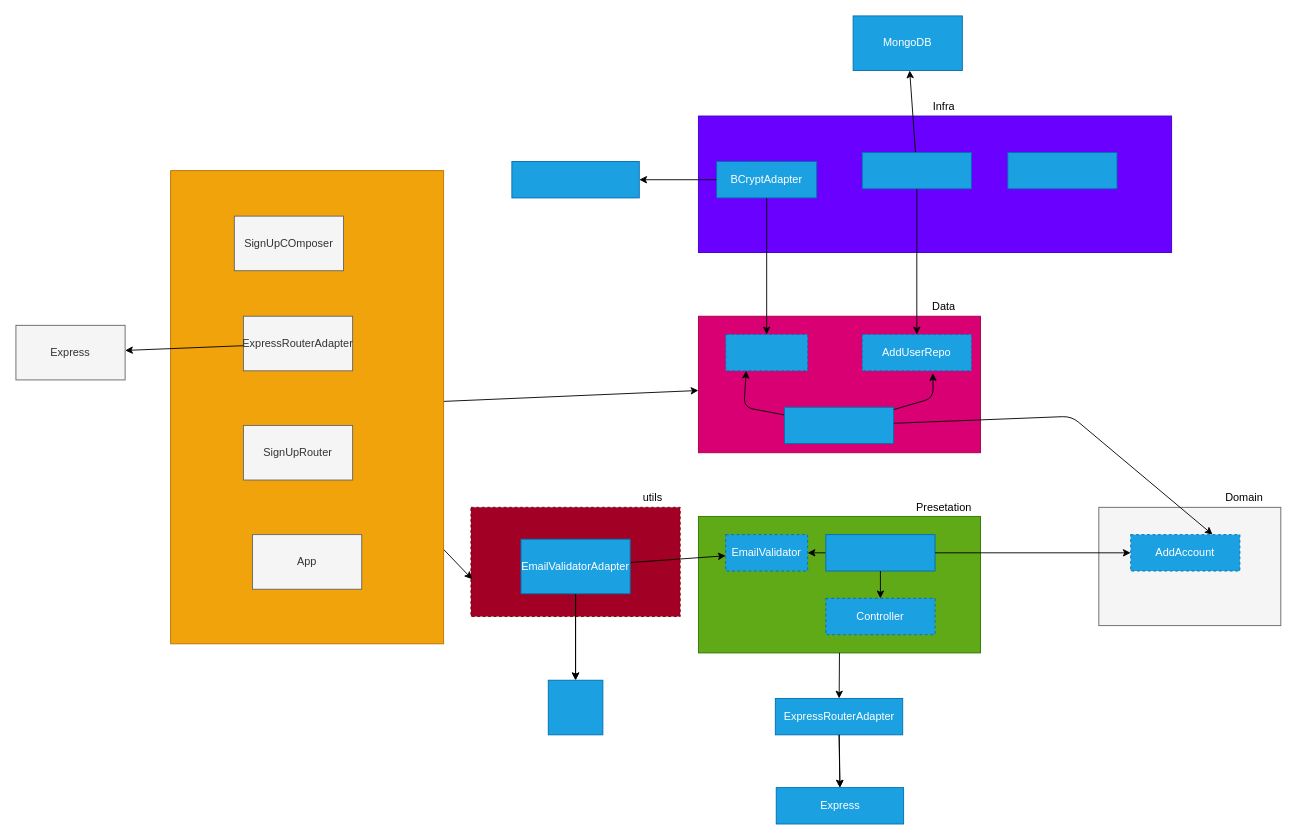
Image size: 1297x840. Some labels were removed from this diagram. The shapes that lost their labels are listed below. From the top down, each one's centre as x and y in pixels, then its label:
At pixel 575 179: "Bcrypt".
At pixel 916 170: "AddUserMongoRepo".
At pixel 1062 170: "AddUser".
At pixel 766 352: "Encrypter".
At pixel 839 425: "DbAccount".
At pixel 880 552: "SignUpContrroler".
At pixel 575 707: "Validator".
